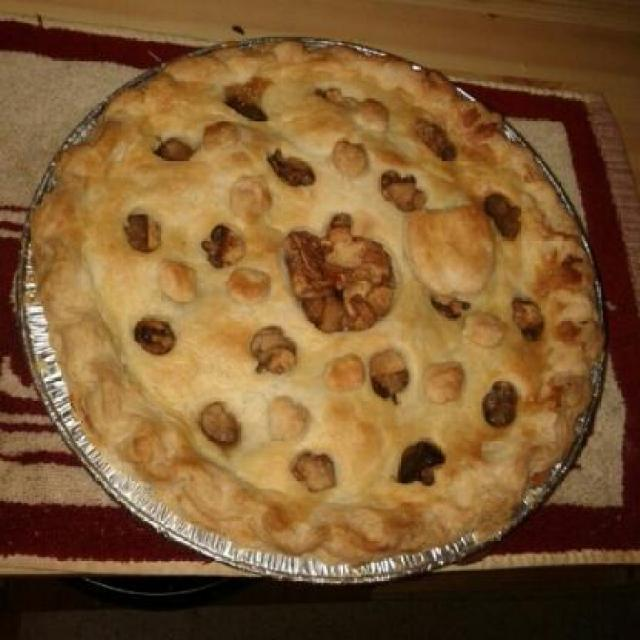Apple: (24, 39, 604, 561)
